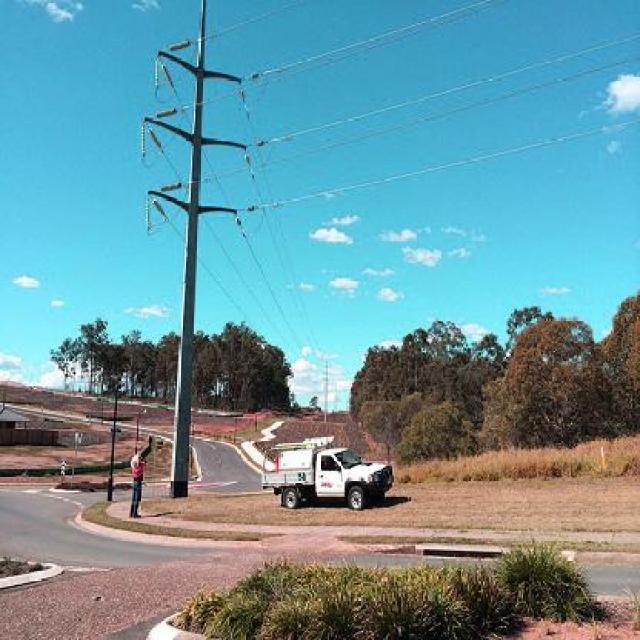light_pole: (126, 10, 272, 499)
